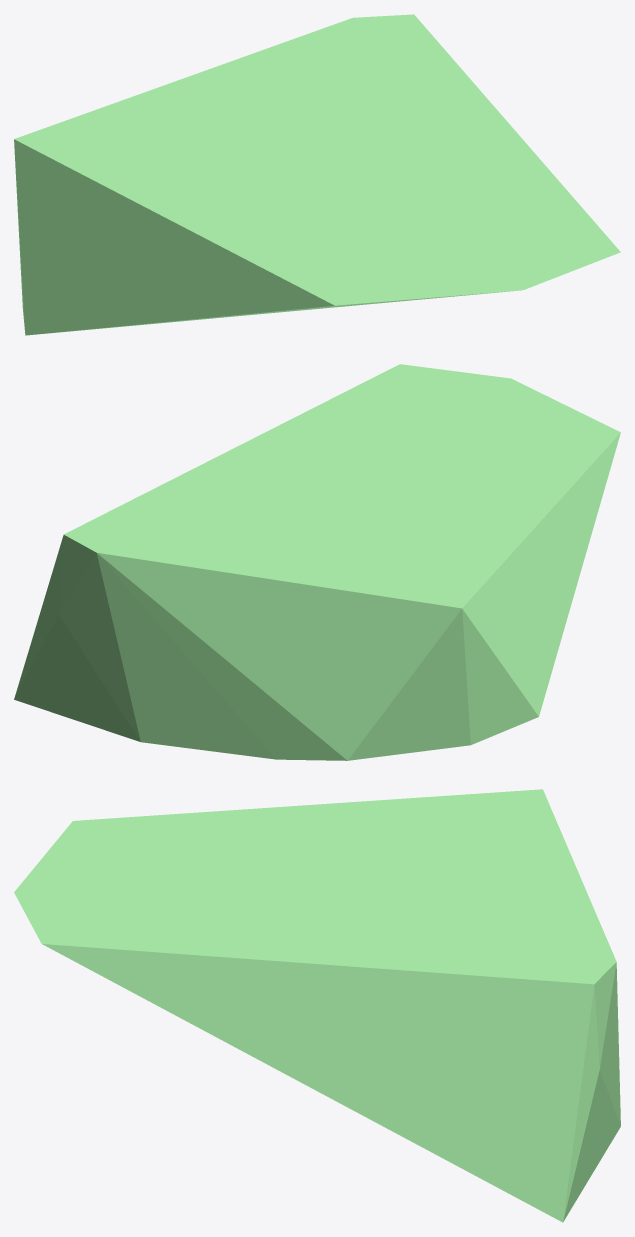
File: exported_panda_link7_resp_coll_9.dae
The picture shows the model from 3 angles, top to bottom: view 1: azimuth 30°, elevation 25°; view 2: azimuth 150°, elevation 25°; view 3: azimuth 270°, elevation 25°; orthographic projection. The views are drawn at different scales.
Parts seen in each view (by area): view 1: node; view 2: node; view 3: node.
Boxes of the visible parts, x1,y1,x2,y2 form: node: (14, 14, 620, 335); node: (14, 364, 620, 760); node: (14, 789, 620, 1222).
Size of the model in its own units: 0.0884 by 0.0343 by 0.0921.
